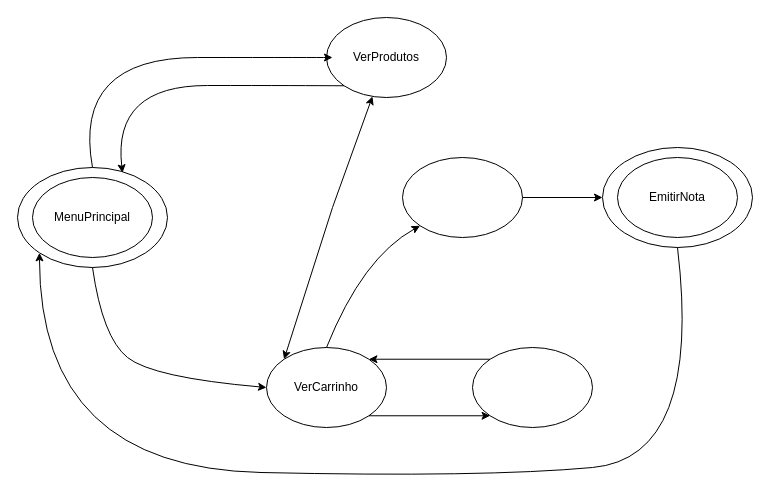
The diagram is 770 pixels wide and 492 high, and some of its shapes have lost their labels. Each missing label, with the centre of its shape:
"Pagamento" belongs at point (462, 197).
"removerProduto" belongs at point (532, 387).
